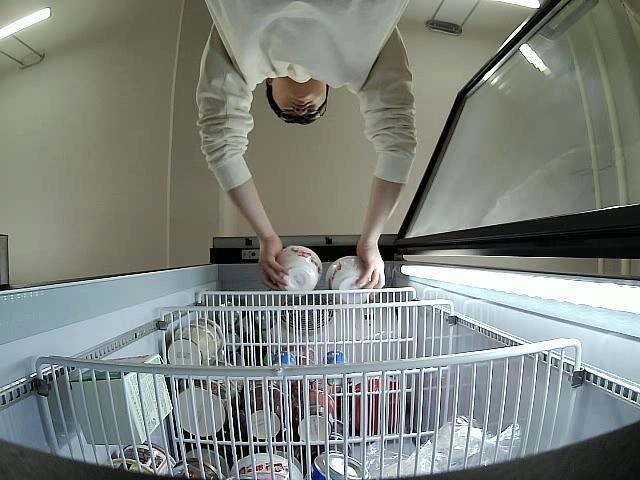09_yukGaeJang: (272, 246, 324, 290), (326, 258, 373, 304)
